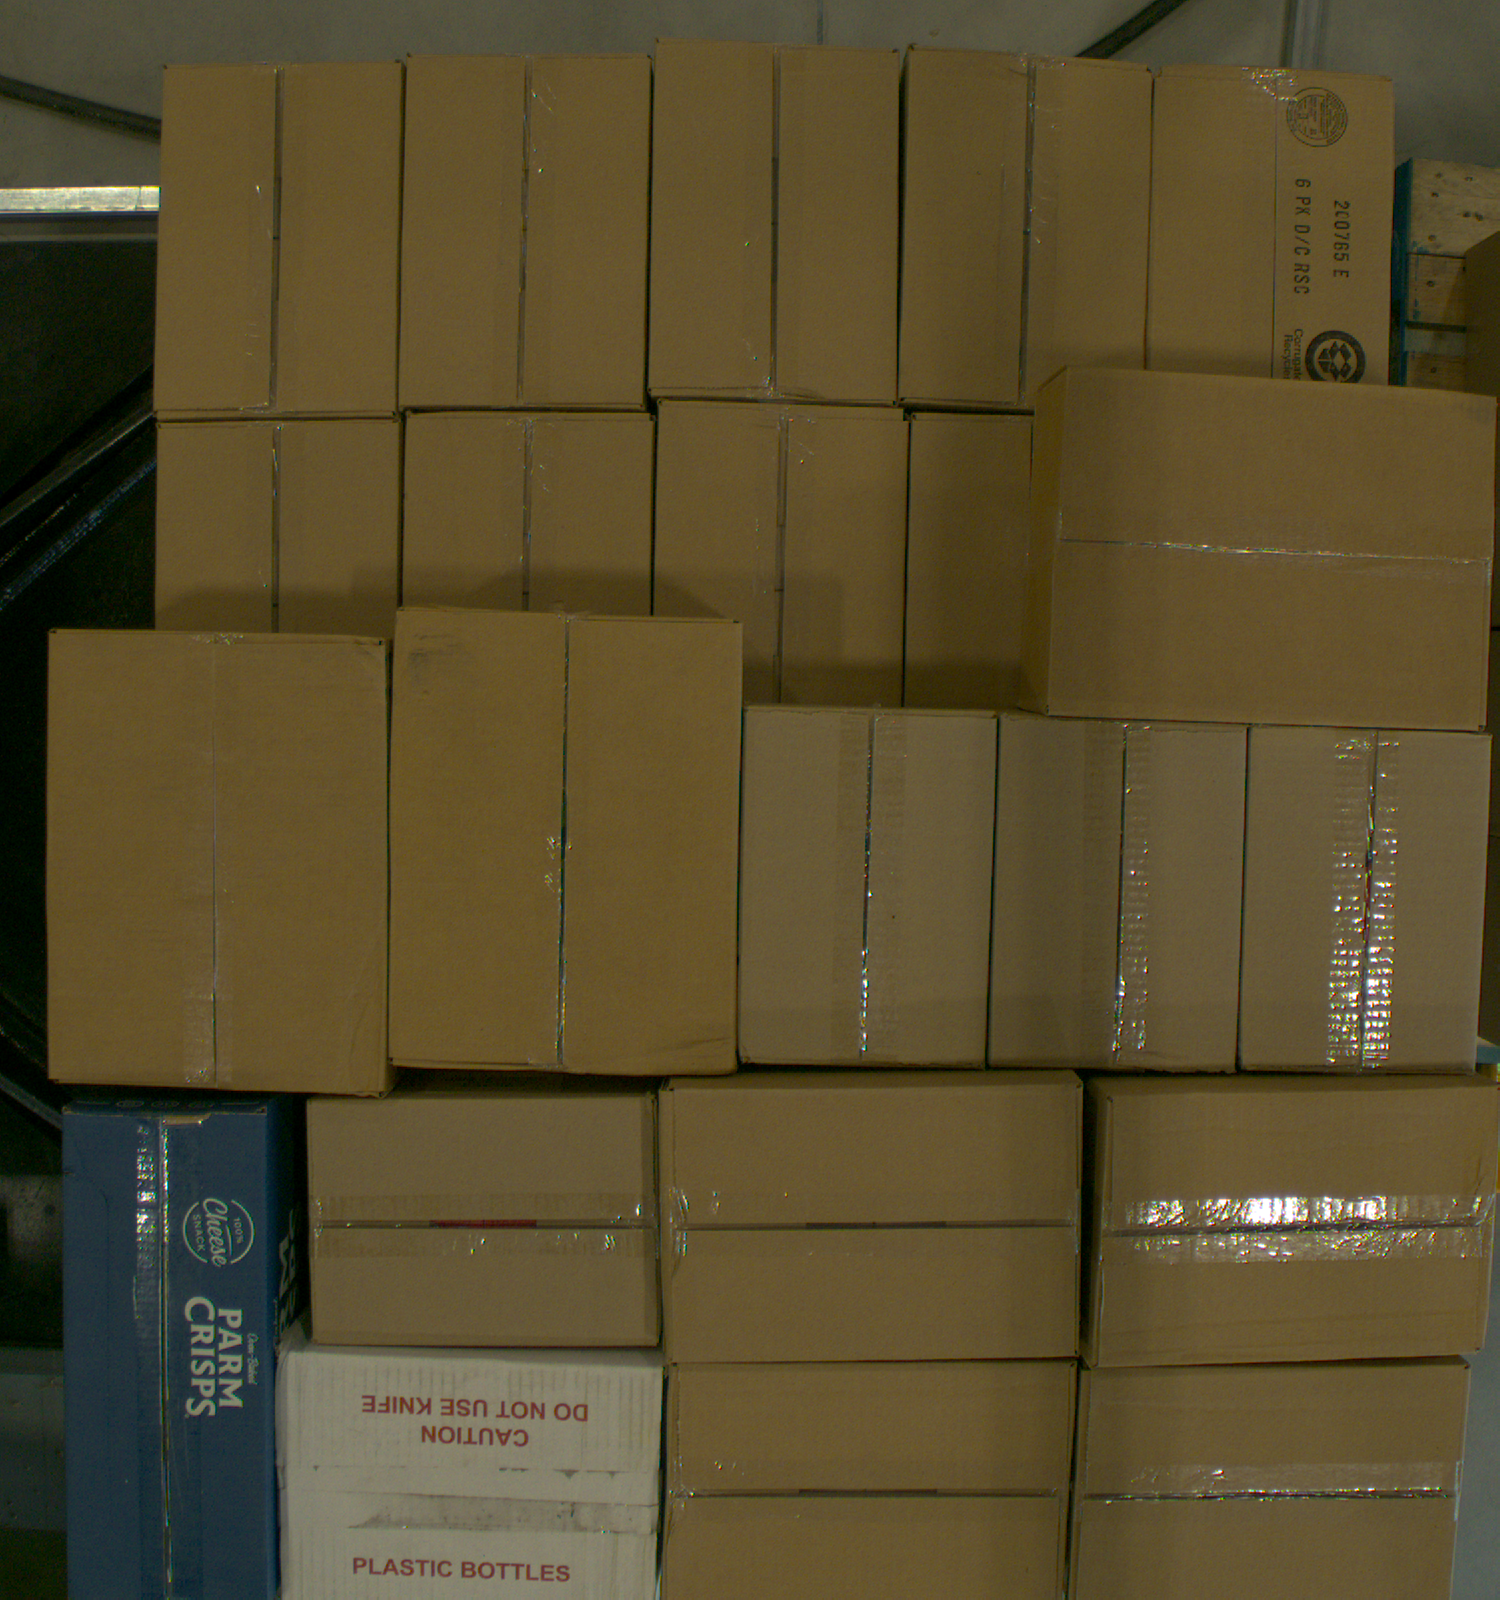box top: (1047, 367, 1497, 732), (388, 612, 742, 1074), (49, 632, 388, 1095), (664, 1078, 1088, 1355), (1094, 1083, 1500, 1366), (62, 1114, 273, 1600), (663, 1363, 1078, 1600), (276, 1350, 663, 1600), (1069, 1365, 1473, 1600), (985, 713, 1246, 1076), (737, 708, 995, 1070), (899, 47, 1150, 410), (650, 38, 899, 403), (154, 61, 405, 420), (400, 52, 653, 407), (1239, 722, 1492, 1071), (309, 1093, 660, 1343), (1146, 63, 1394, 386), (656, 400, 908, 708), (156, 419, 400, 634), (402, 412, 654, 617), (905, 413, 1033, 709)
